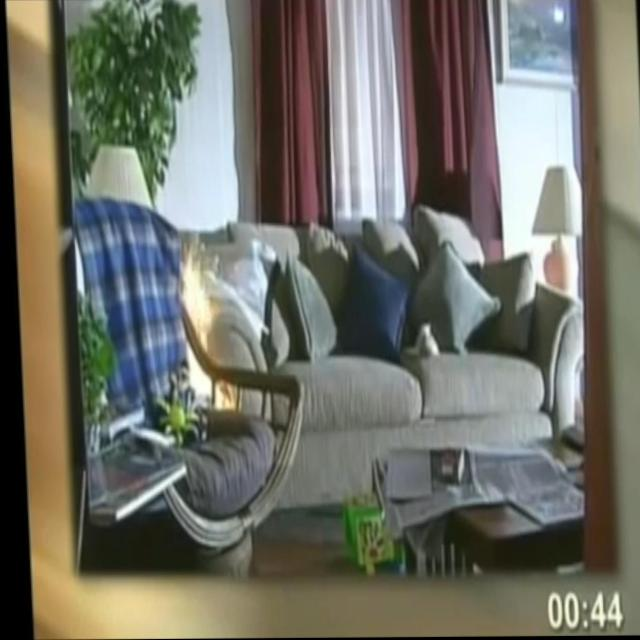fire: (176, 245, 230, 407)
